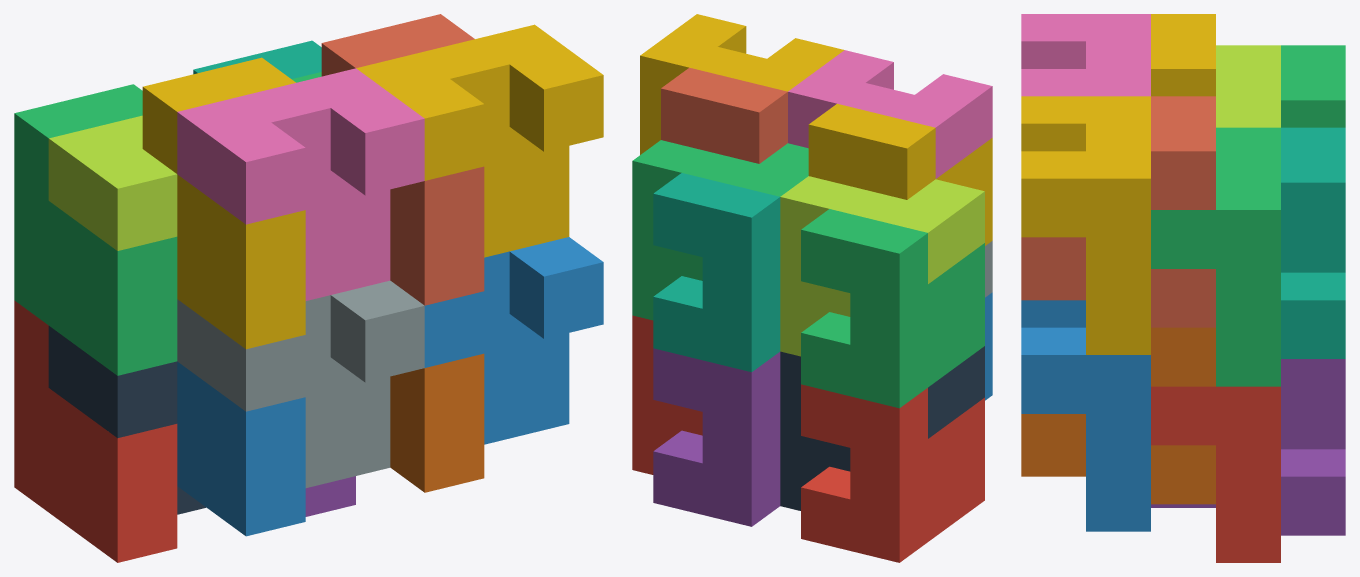
Rendered from tiling.obj.
3 renders of one model, left to right at view 1: azimuth 30°, elevation 25°; view 2: azimuth 150°, elevation 25°; view 3: azimuth 270°, elevation 25°, orthographic. The views are drawn at different scales.
Parts seen in each view (by area): view 1: copy_2_domain_4, copy_2_domain_8, copy_2_domain_2, copy_1_domain_3, copy_1_domain_1, copy_2_domain_6, copy_1_domain_4, copy_1_domain_2, copy_1_domain_8, copy_2_domain_3, copy_1_domain_6, copy_2_domain_1 (+2 smaller); view 2: copy_1_domain_3, copy_1_domain_1, copy_1_domain_7, copy_1_domain_5, copy_2_domain_3, copy_2_domain_4, copy_1_domain_4, copy_2_domain_7, copy_2_domain_8, copy_1_domain_8, copy_2_domain_1, copy_2_domain_5 (+1 smaller); view 3: copy_2_domain_8, copy_2_domain_7, copy_2_domain_6, copy_1_domain_8, copy_2_domain_5, copy_1_domain_7, copy_1_domain_6, copy_1_domain_5, copy_2_domain_4, copy_1_domain_3, copy_1_domain_4, copy_2_domain_3.
Boxes of the visible parts, bbox=[...] form: copy_2_domain_4: bbox=[177, 68, 424, 300]; copy_2_domain_8: bbox=[356, 24, 603, 257]; copy_2_domain_2: bbox=[177, 280, 424, 487]; copy_1_domain_3: bbox=[14, 84, 177, 375]; copy_1_domain_1: bbox=[14, 300, 177, 562]; copy_2_domain_6: bbox=[424, 237, 603, 444]; copy_1_domain_4: bbox=[142, 57, 305, 349]; copy_1_domain_2: bbox=[177, 361, 305, 536]; copy_1_domain_8: bbox=[321, 14, 484, 305]; copy_2_domain_3: bbox=[48, 115, 177, 250]; copy_1_domain_6: bbox=[390, 353, 484, 492]; copy_2_domain_1: bbox=[48, 326, 205, 514]; copy_1_domain_3: bbox=[801, 209, 984, 408]; copy_1_domain_1: bbox=[801, 384, 984, 562]; copy_1_domain_7: bbox=[653, 173, 780, 372]; copy_1_domain_5: bbox=[653, 348, 780, 526]; copy_2_domain_3: bbox=[780, 176, 984, 356]; copy_2_domain_4: bbox=[788, 50, 992, 178]; copy_1_domain_4: bbox=[808, 103, 992, 245]; copy_2_domain_7: bbox=[632, 140, 808, 320]; copy_2_domain_8: bbox=[640, 14, 844, 154]; copy_1_domain_8: bbox=[661, 67, 787, 163]; copy_2_domain_1: bbox=[780, 346, 984, 510]; copy_2_domain_5: bbox=[632, 315, 702, 474]; copy_2_domain_8: bbox=[1021, 96, 1150, 354]; copy_2_domain_7: bbox=[1151, 127, 1280, 386]; copy_2_domain_6: bbox=[1021, 300, 1150, 531]; copy_1_domain_8: bbox=[1021, 96, 1215, 327]; copy_2_domain_5: bbox=[1151, 386, 1280, 562]; copy_1_domain_7: bbox=[1281, 127, 1345, 358]; copy_1_domain_6: bbox=[1021, 327, 1215, 504]; copy_1_domain_5: bbox=[1151, 359, 1345, 535]; copy_2_domain_4: bbox=[1021, 14, 1150, 96]; copy_1_domain_3: bbox=[1281, 45, 1345, 127]; copy_1_domain_4: bbox=[1151, 14, 1215, 96]; copy_2_domain_3: bbox=[1216, 45, 1280, 127].
Size of the model in its own units: 7 by 7 by 5.
